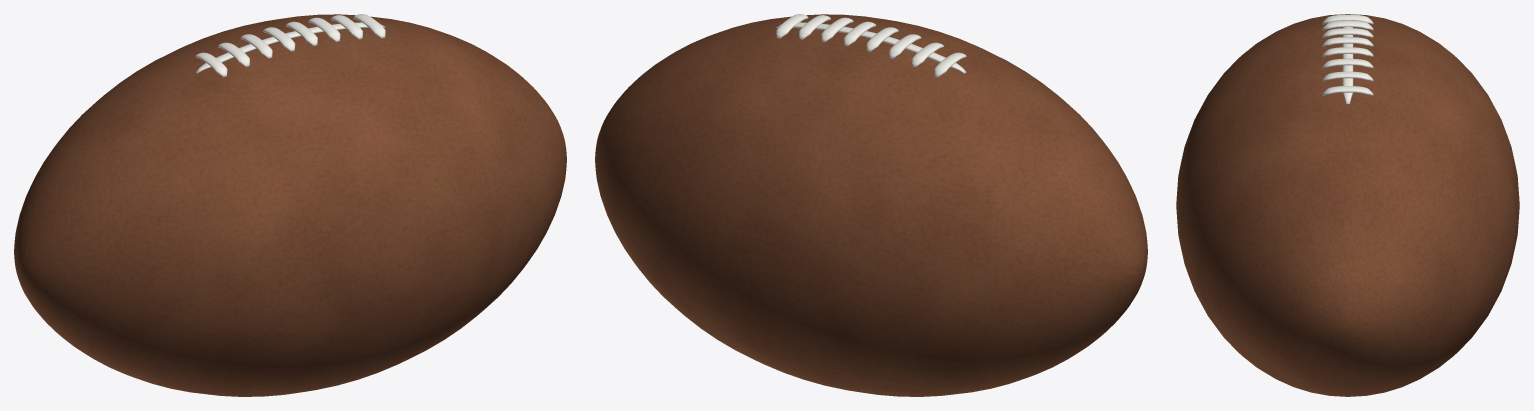
The model's file is football.glb.
3 renders of one model, left to right at view 1: azimuth 30°, elevation 25°; view 2: azimuth 150°, elevation 25°; view 3: azimuth 270°, elevation 25°, orthographic. The views are drawn at different scales.
Parts seen in each view (by area): view 1: FootballGame, LacesGame; view 2: FootballGame, LacesGame; view 3: FootballGame, LacesGame.
Boxes of the visible parts, box(x1,y1,x2,y2) form: FootballGame: box(14, 14, 566, 396); LacesGame: box(195, 14, 385, 77); FootballGame: box(595, 14, 1147, 396); LacesGame: box(776, 14, 966, 77); FootballGame: box(1176, 14, 1519, 396); LacesGame: box(1322, 14, 1373, 104).
Size of the model in its own units: 0.284 by 0.1745 by 0.171.
2 materials, 1 textured.
